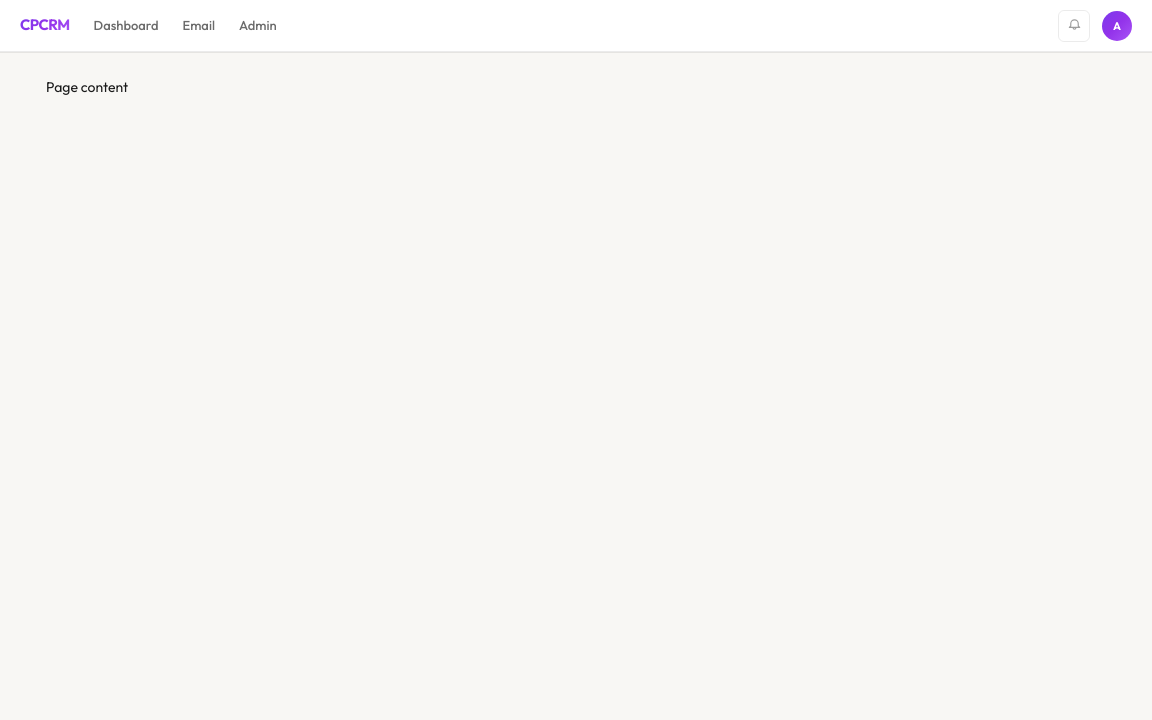
Test: AppShell › falls back to email when user has no name
# Open the profile dropdown — the avatar label uses the email fallback
Click the button named "User menu for alice@example.com": (1117, 26) [1102, 10, 1132, 40]
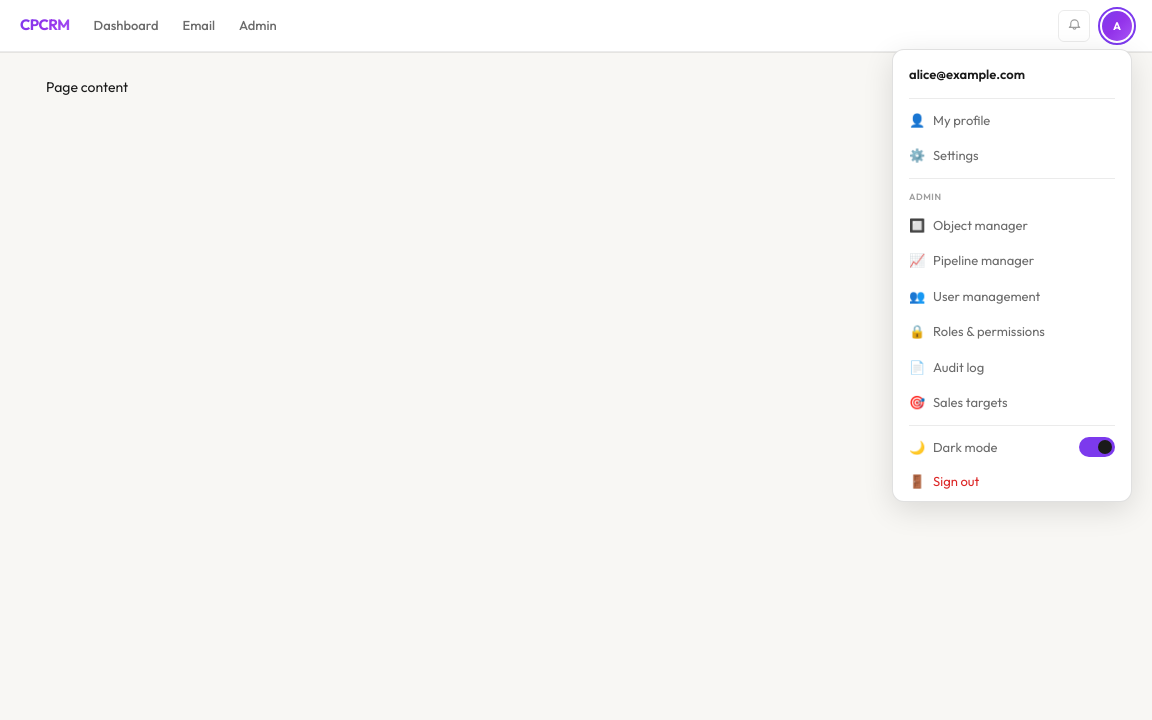
Check: the text "alice@example.com" is shown, box [909, 66, 1025, 82]
